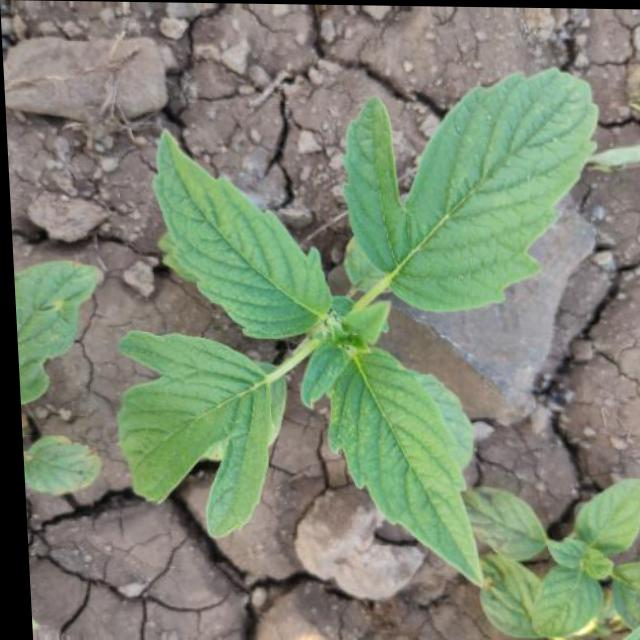crop: (93, 49, 619, 587)
